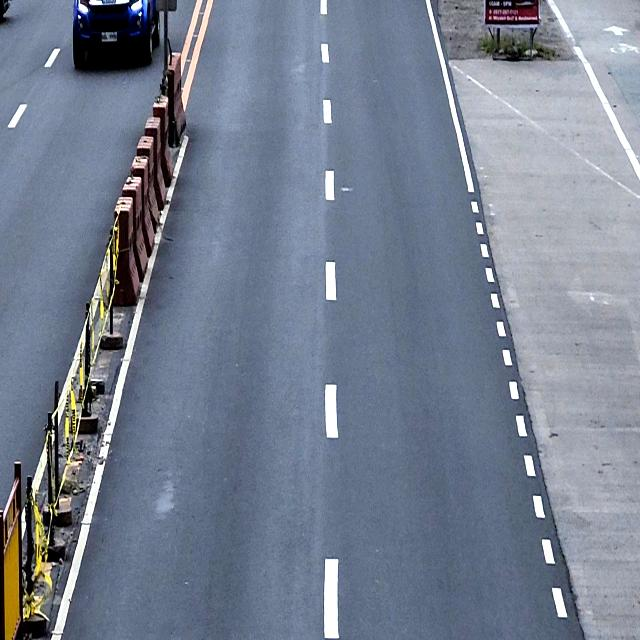Car: (71, 0, 162, 73)
License-Plate: (100, 32, 118, 42)
